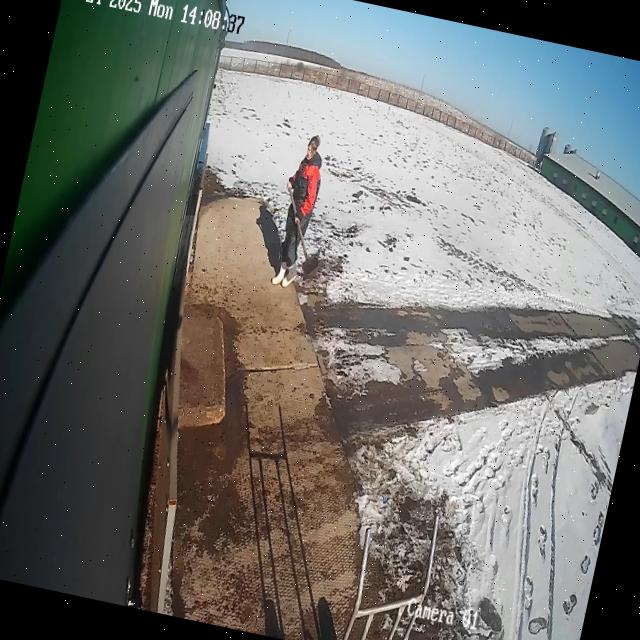Red uniform: (263, 129, 331, 293)
